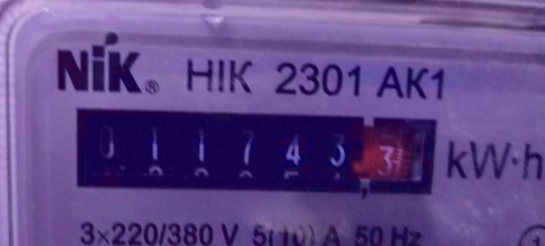0: (95, 121, 118, 160), (145, 121, 164, 162)
1: (192, 122, 209, 163)
3: (327, 127, 347, 170), (375, 140, 395, 179)
4: (282, 126, 302, 167)
7: (235, 123, 259, 167)
screen: (56, 94, 445, 205)
